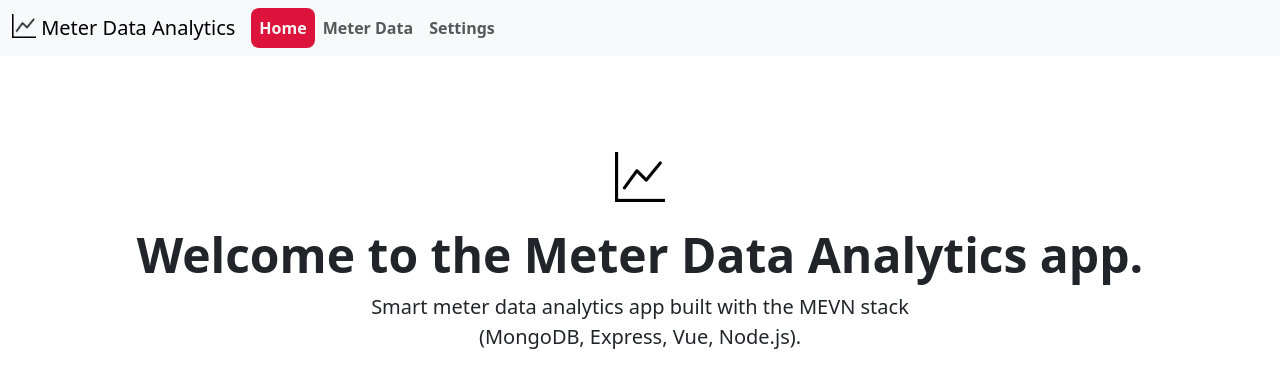
Test: App › can navigate to Settings
Click the link with class "nav-link" showing "Settings": (462, 28) [429, 17, 495, 39]
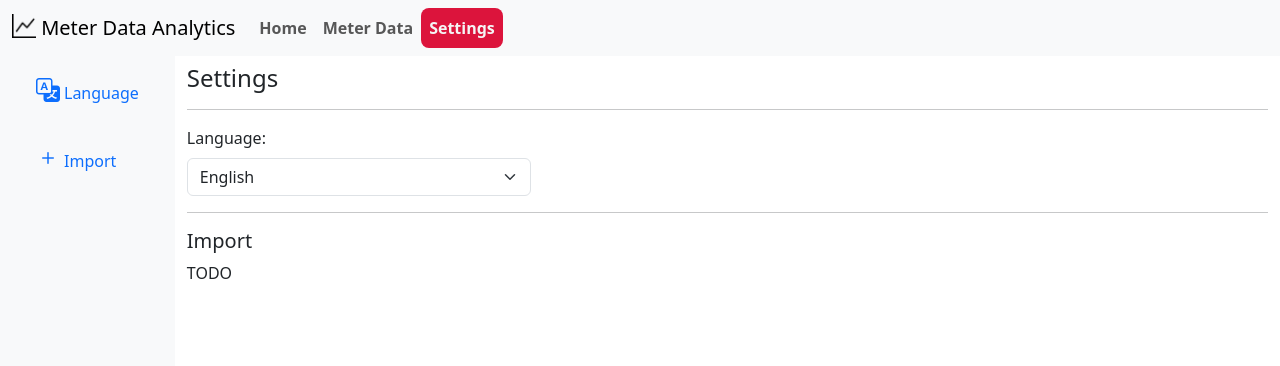
expect the heading "Settings" is shown: met, box [187, 61, 278, 94]
